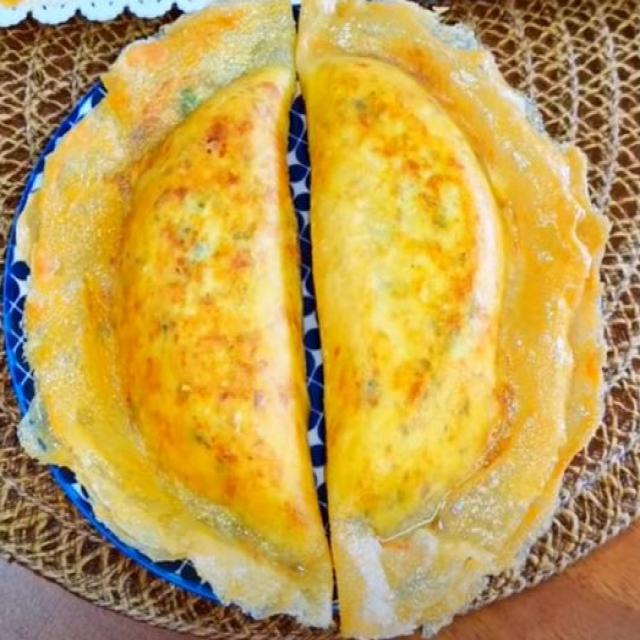brik: (300, 0, 604, 640), (11, 15, 316, 628)
